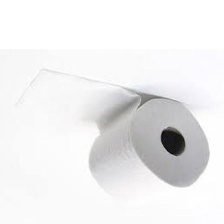tissue: (9, 63, 215, 210)
